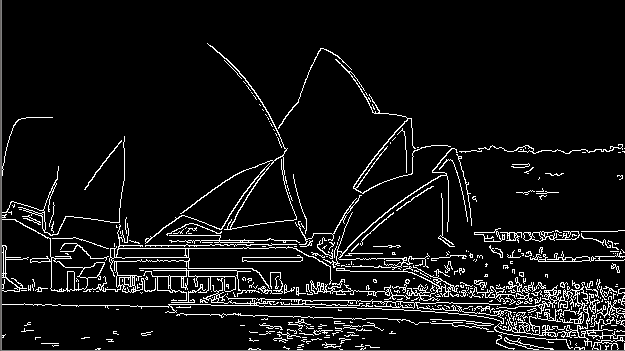opera house: (10, 16, 494, 258)
